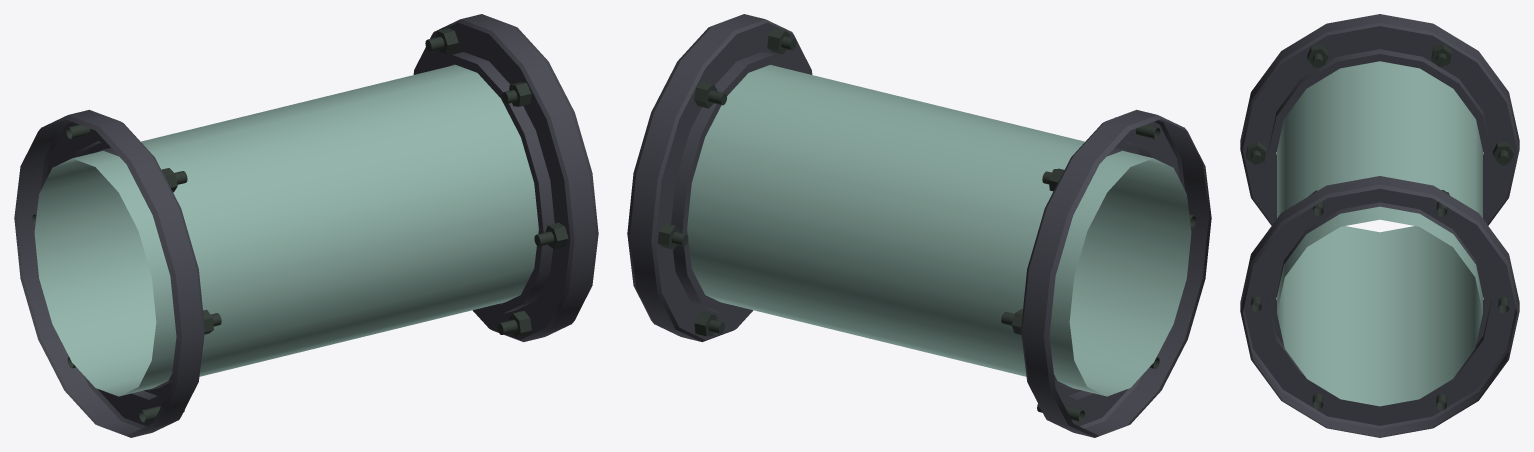
Rendered from PipeComplexLarge_A2_Short_2.fbx.
3 views of the same model, side by side, from view 1: azimuth 30°, elevation 25°; view 2: azimuth 150°, elevation 25°; view 3: azimuth 270°, elevation 25° (orthographic). The views are drawn at different scales.
Parts seen in each view (by area): view 1: PipeComplexLarge_A2_Short_2.001; view 2: PipeComplexLarge_A2_Short_2.001; view 3: PipeComplexLarge_A2_Short_2.001.
Boxes of the visible parts, <box> form: PipeComplexLarge_A2_Short_2.001: <box>14,14,598,437</box>; PipeComplexLarge_A2_Short_2.001: <box>627,14,1211,437</box>; PipeComplexLarge_A2_Short_2.001: <box>1240,14,1519,437</box>.
Bounding box in the file's own units: 0.4 × 0.2712 × 0.2712.
